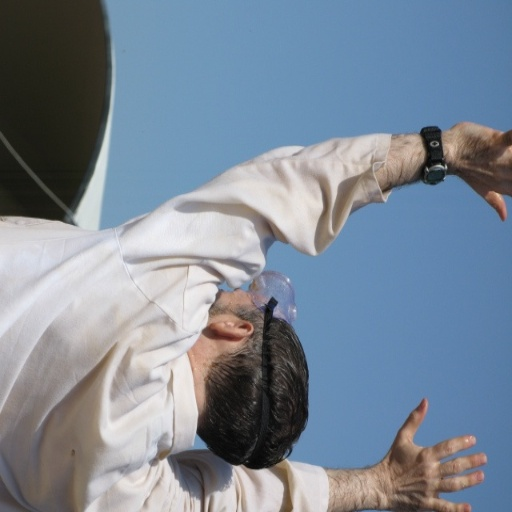hand: (345, 400, 486, 505), (448, 118, 511, 222)
